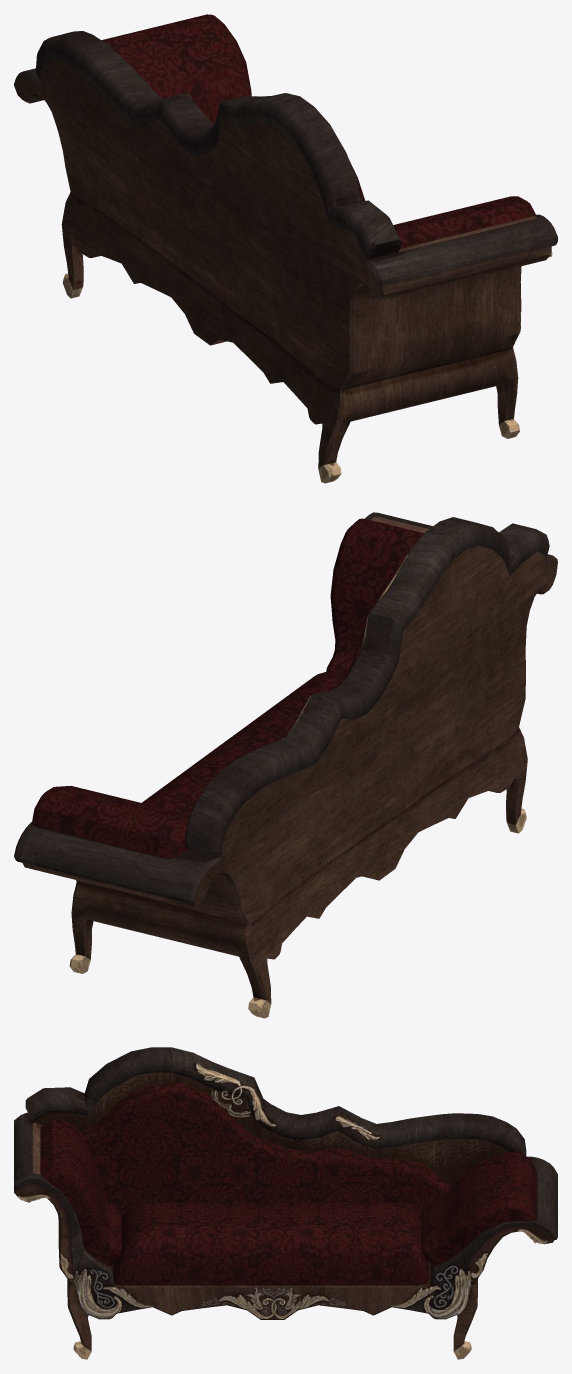
The model's file is sofa_torto.obj.
3 renders of one model, top to bottom at view 1: azimuth 30°, elevation 25°; view 2: azimuth 150°, elevation 25°; view 3: azimuth 270°, elevation 25°, orthographic. The views are drawn at different scales.
Visible parts, largest first — view 1: defaultMaterial; view 2: defaultMaterial; view 3: defaultMaterial.
Part boxes in pixels (bbox=[...]): defaultMaterial: bbox=[14, 14, 557, 483]; defaultMaterial: bbox=[14, 512, 557, 1018]; defaultMaterial: bbox=[14, 1047, 557, 1359].
Bounding box in the file's own units: 0.5996 × 1.01 × 2.
1 material, 1 textured.
